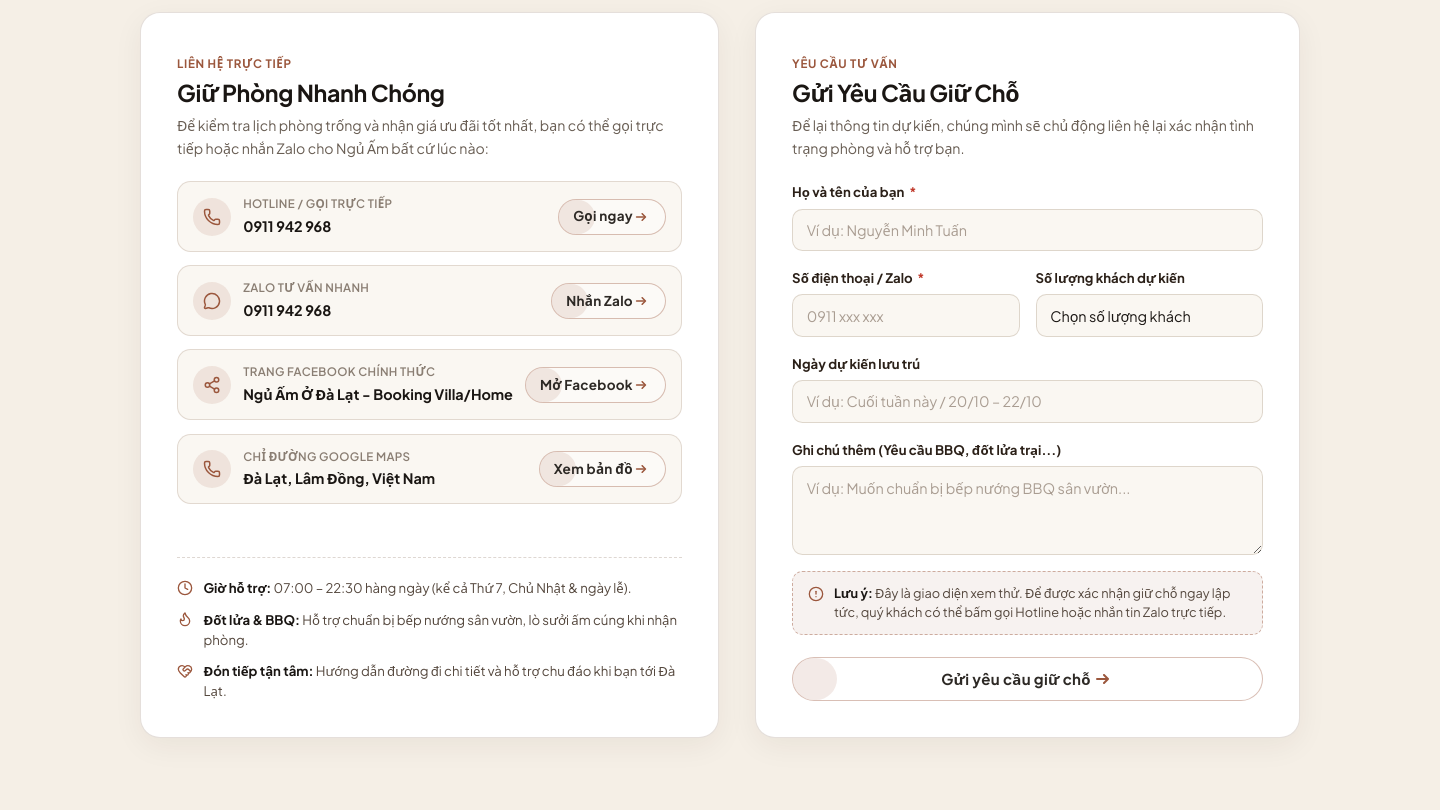
Test: ContactSection › shows validation errors when submitting empty required fields
(page scrolled)
Click the button "Gửi yêu cầu giữ chỗ" at (1028, 679), box [792, 657, 1263, 701]
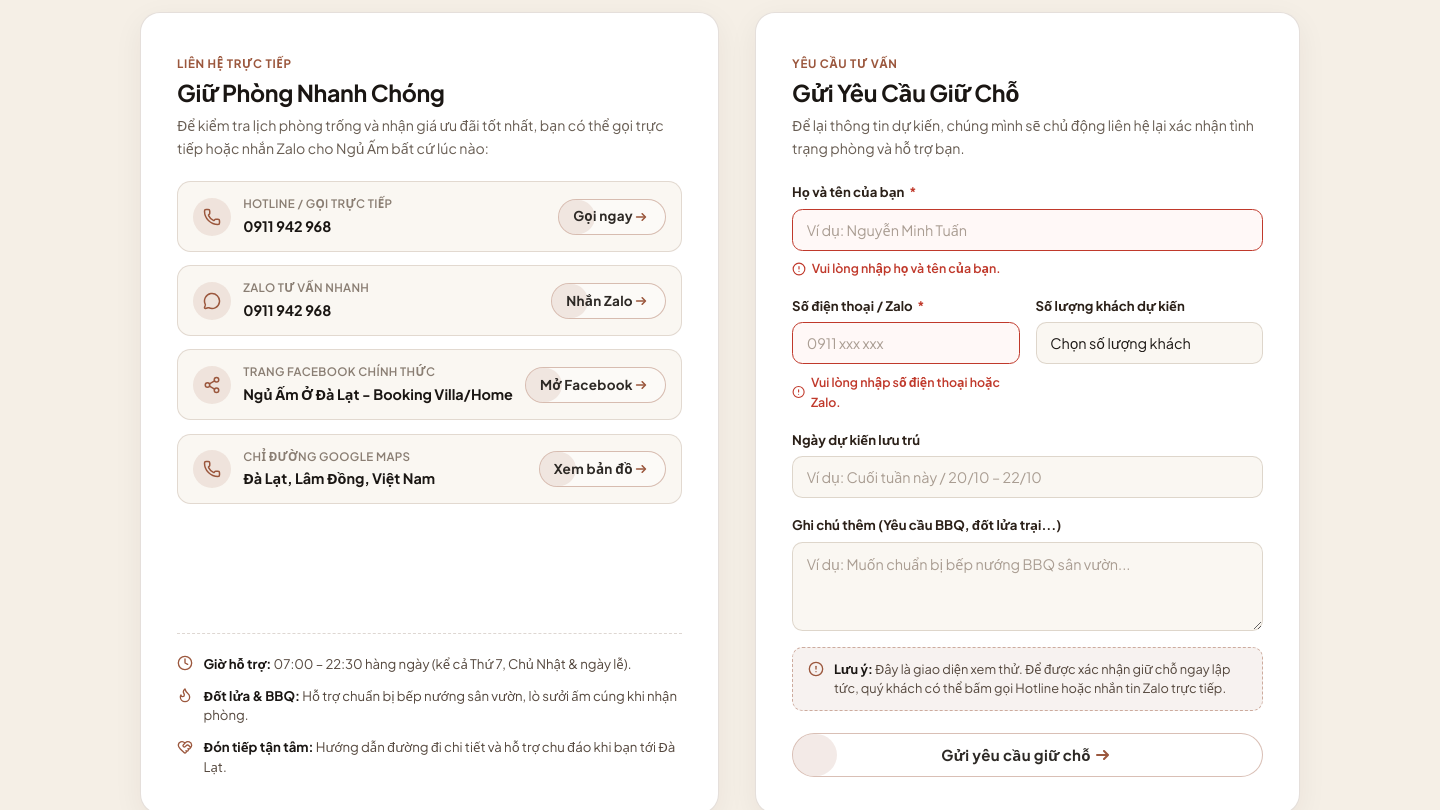
Expected: the text "Vui lòng nhập họ và tên của bạn." is shown, [792, 260, 1001, 276]
Expected: the text "Vui lòng nhập số điện thoại hoặc Zalo." is shown, [792, 372, 1020, 413]
